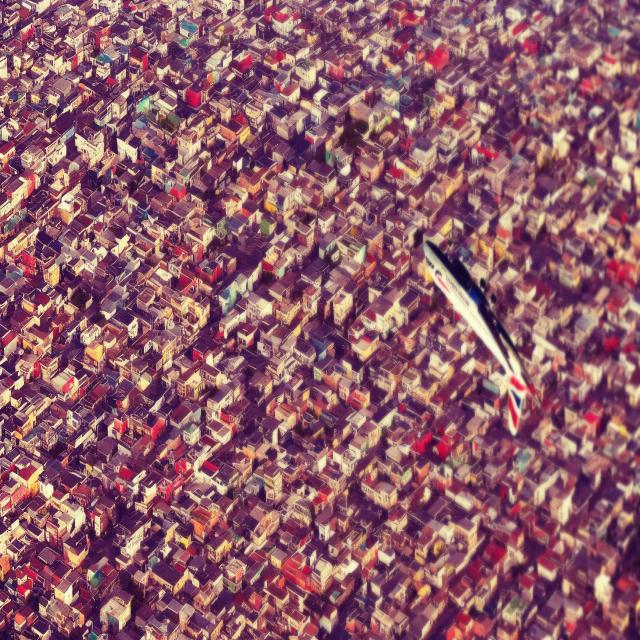airplane: (422, 233, 543, 436)
